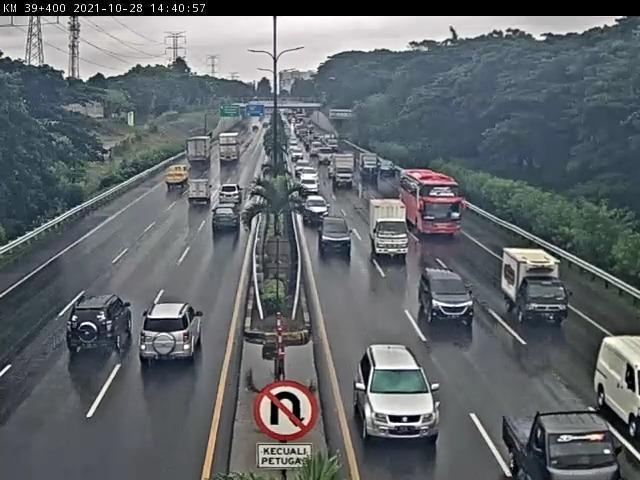bus: (399, 171, 465, 240)
car: (353, 345, 443, 445), (138, 302, 206, 368), (66, 294, 134, 356), (418, 269, 476, 325), (318, 217, 353, 254), (211, 203, 243, 235), (304, 194, 331, 224), (218, 182, 244, 205)
truck: (503, 250, 571, 328), (367, 200, 412, 260), (185, 178, 213, 206)
